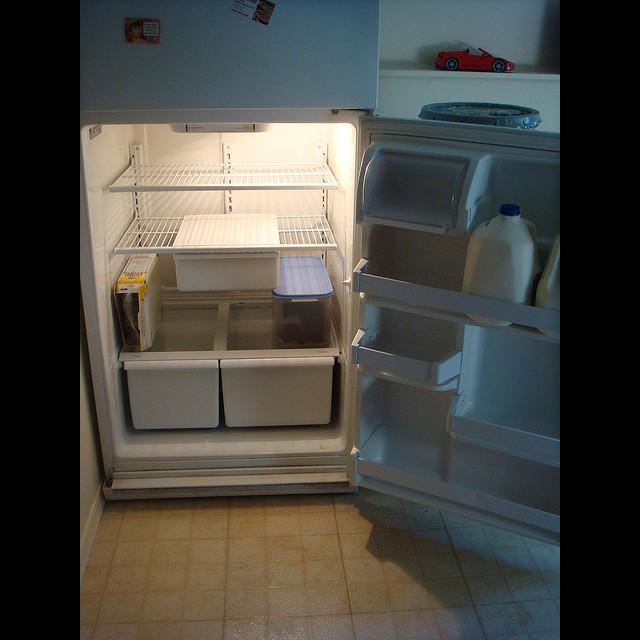Refrigerator: (81, 3, 560, 545)
